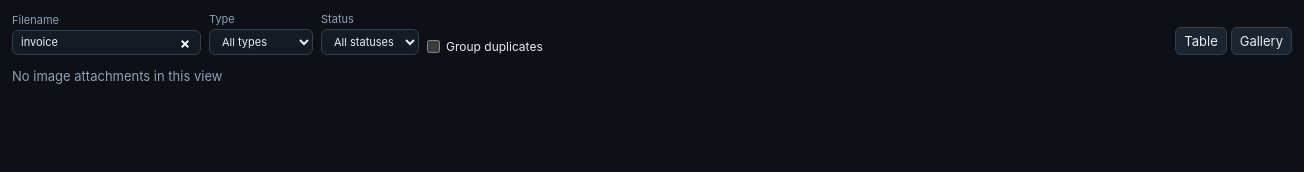
Test case: FilesPage › fv and fq URL roundtrip via toolbar
The width and height of the screenshot is (1304, 172).
Expected: the element with test id "files-gallery" is shown, [12, 68, 222, 84]
Expected: the search field with test id "files-filename" holds "invoice", [12, 30, 201, 55]
Click the button with test id "files-view-table" at x=1201, y=41, box [1175, 27, 1227, 55]
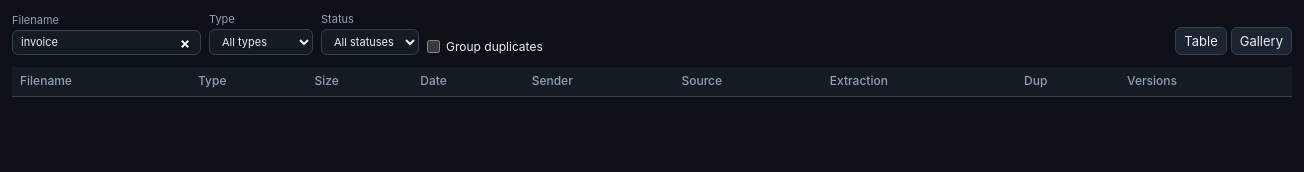
Result: the element with test id "files-table" is shown at [12, 67, 1292, 97]
